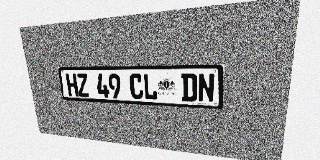4: (96, 73, 110, 98)
9: (108, 73, 122, 98)
C: (129, 73, 144, 99)
D: (181, 73, 197, 102)
H: (65, 74, 79, 96)
L: (143, 73, 158, 100)
N: (198, 73, 215, 103)
Z: (76, 74, 90, 97)
